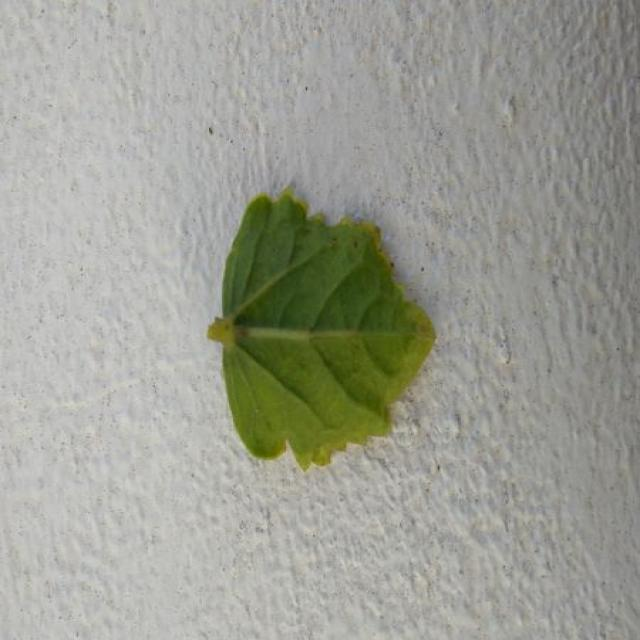Hibiscus: (208, 190, 435, 467)
